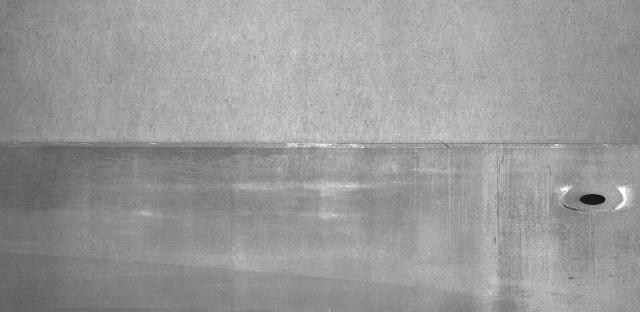punching_hole: (575, 192, 610, 208)
welding_line: (5, 135, 638, 157)
